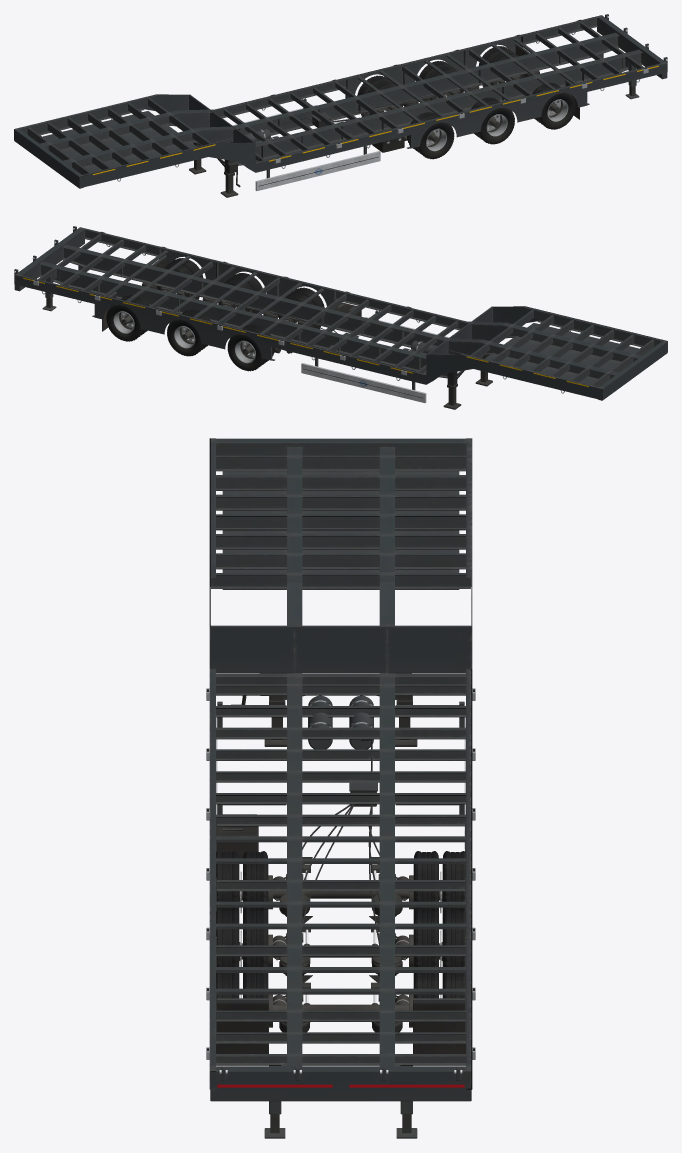
Rendered from lowbed-chassis.glb.
The picture shows the model from 3 angles, top to bottom: view 1: azimuth 30°, elevation 25°; view 2: azimuth 150°, elevation 25°; view 3: azimuth 270°, elevation 25°; orthographic projection. The views are drawn at different scales.
Visible parts, largest first — view 1: object 1, TwinWheel.001, TwinWheel.003, TwinWheel.005, TwinWheel, TwinWheel.002, TwinWheel.004; view 2: object 1, TwinWheel, TwinWheel.002, TwinWheel.004, TwinWheel.001, TwinWheel.003, TwinWheel.005; view 3: object 1, TwinWheel.002, TwinWheel.003, TwinWheel, TwinWheel.001, TwinWheel.004, TwinWheel.005.
Part boxes in pixels (x1,y1,x2,y2): object 1: (14,14,667,197); TwinWheel.001: (407,112,454,159); TwinWheel.003: (471,97,514,144); TwinWheel.005: (532,82,575,129); TwinWheel: (357,75,403,106); TwinWheel.002: (419,61,463,93); TwinWheel.004: (478,46,524,78); object 1: (14,226,667,409); TwinWheel: (227,324,274,371); TwinWheel.002: (167,309,210,356); TwinWheel.004: (106,294,149,341); TwinWheel.001: (278,287,324,318); TwinWheel.003: (218,273,262,305); TwinWheel.005: (157,258,203,290); object 1: (206,438,475,1138); TwinWheel.002: (413,910,465,978); TwinWheel.003: (216,910,268,978); TwinWheel: (413,851,465,919); TwinWheel.001: (216,851,268,919); TwinWheel.004: (413,973,465,998); TwinWheel.005: (216,973,268,998).
Bounding box in the file's own units: 13.26 × 1.52 × 2.61.
8 materials, 6 textured.
